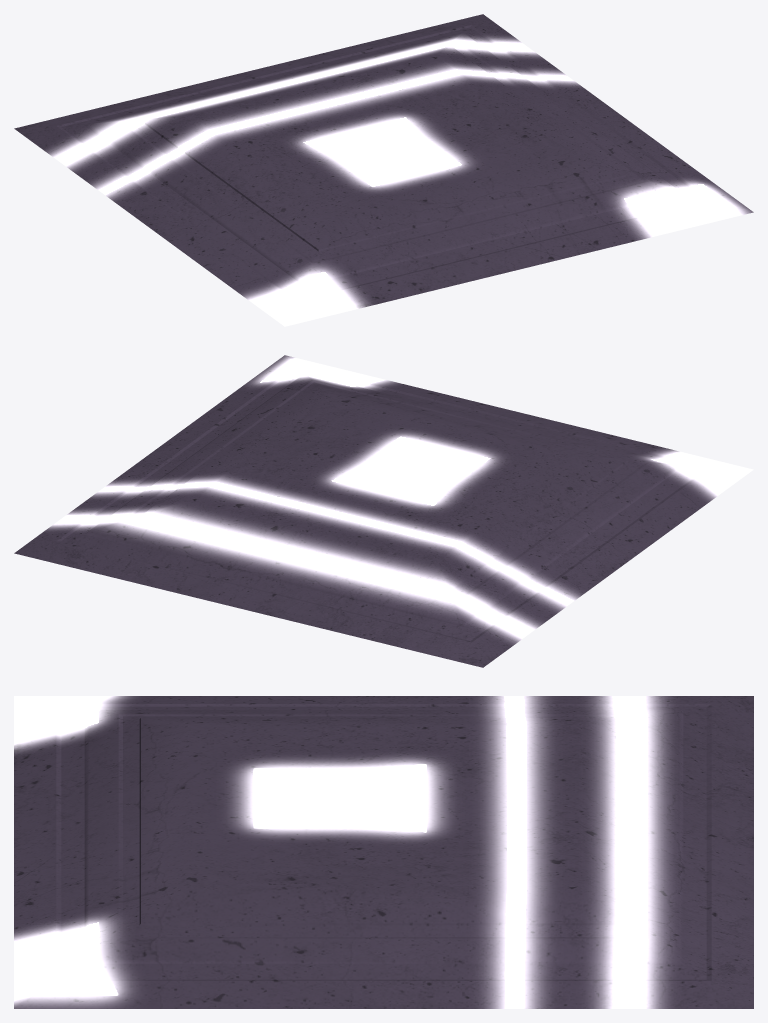
The model's file is Pickup_Spawn_001.fbx.
The picture shows the model from 3 angles, top to bottom: view 1: azimuth 30°, elevation 25°; view 2: azimuth 150°, elevation 25°; view 3: azimuth 270°, elevation 25°; orthographic projection. The views are drawn at different scales.
Visible parts, largest first — view 1: pickupspawn_001; view 2: pickupspawn_001; view 3: pickupspawn_001.
Boxes of the visible parts, left/top/right/bottom form: pickupspawn_001: left=14, top=14, right=753, bottom=326; pickupspawn_001: left=14, top=355, right=753, bottom=667; pickupspawn_001: left=14, top=696, right=753, bottom=1008.
Size of the model in its own units: 300 by 20 by 300.
